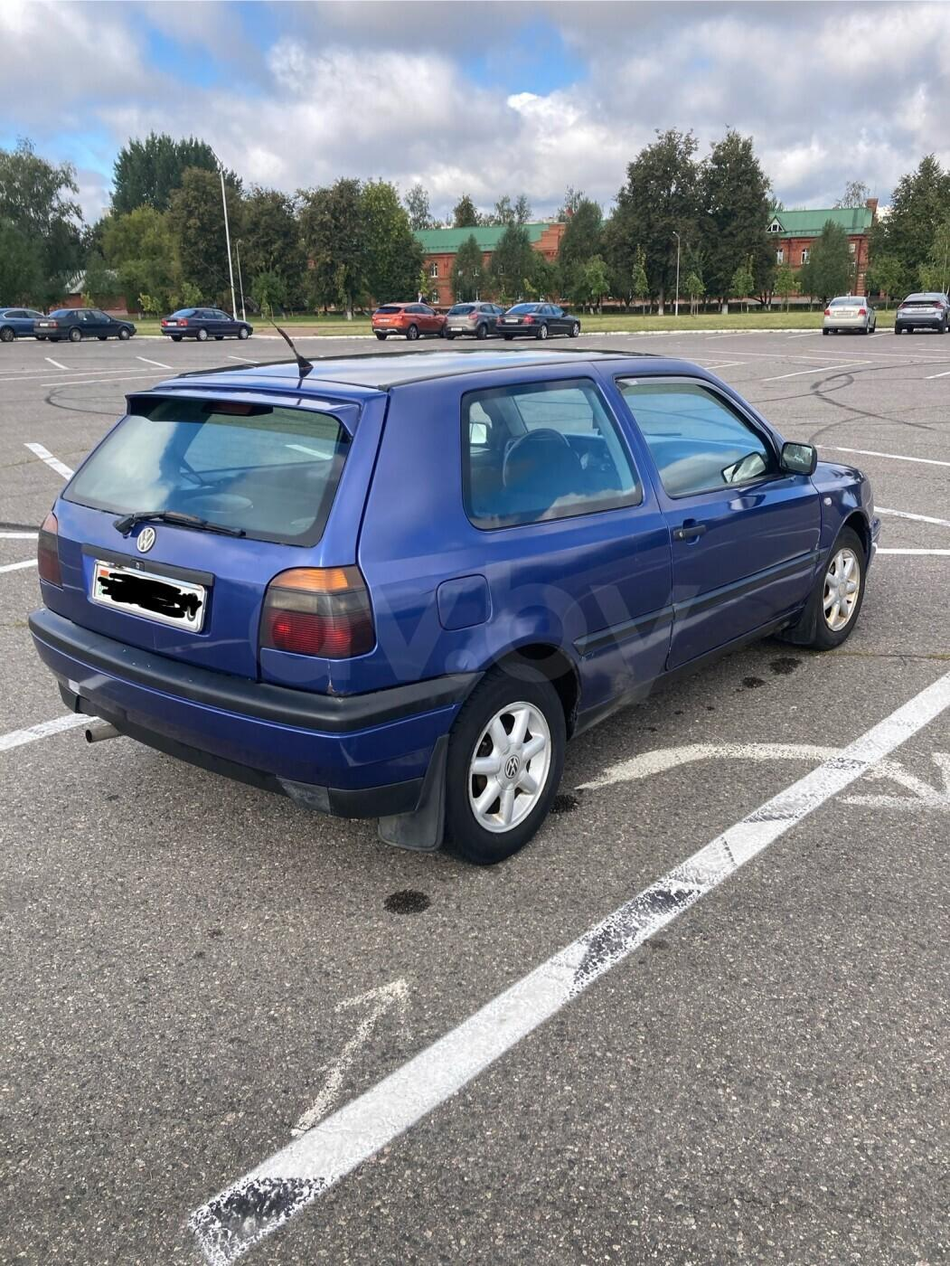Golf_1991-2000: (32, 328, 896, 864)
